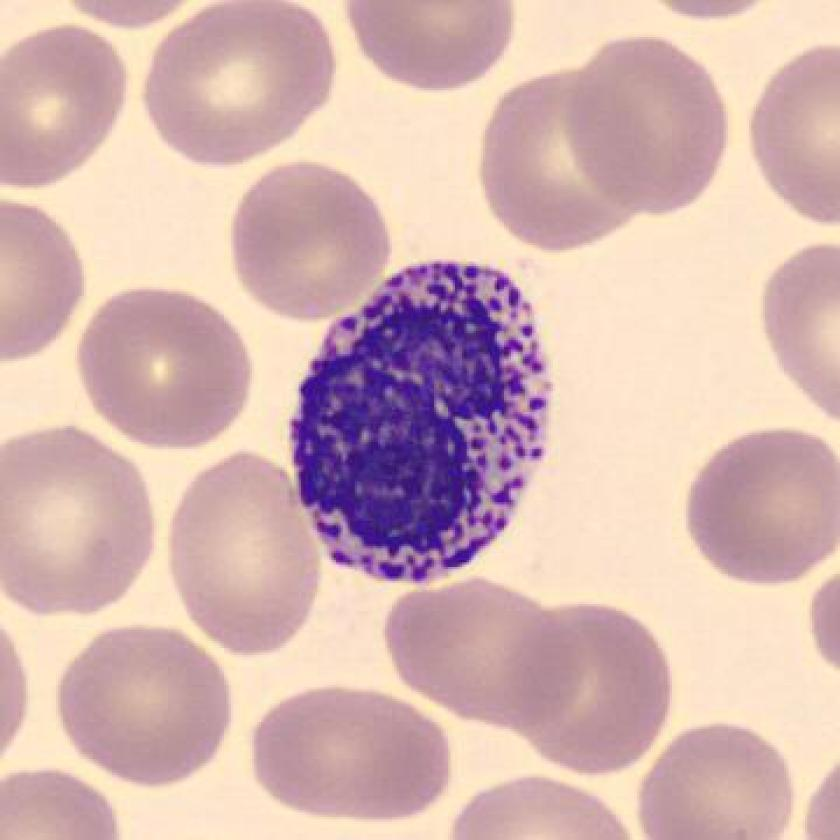basophil: (293, 249, 552, 600)
